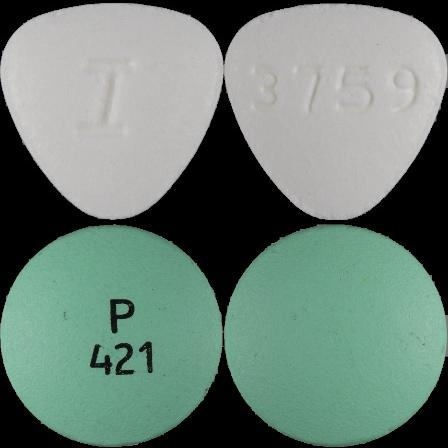66116-841: (0, 0, 224, 224)
